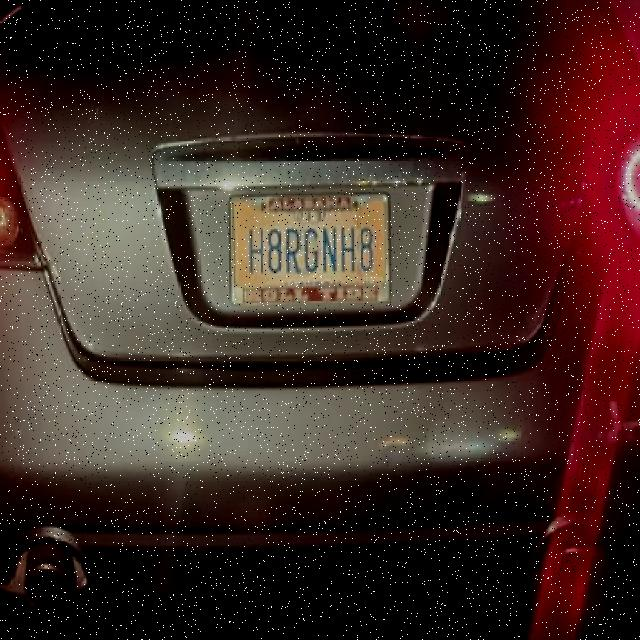licenseplate: (228, 193, 390, 305)
